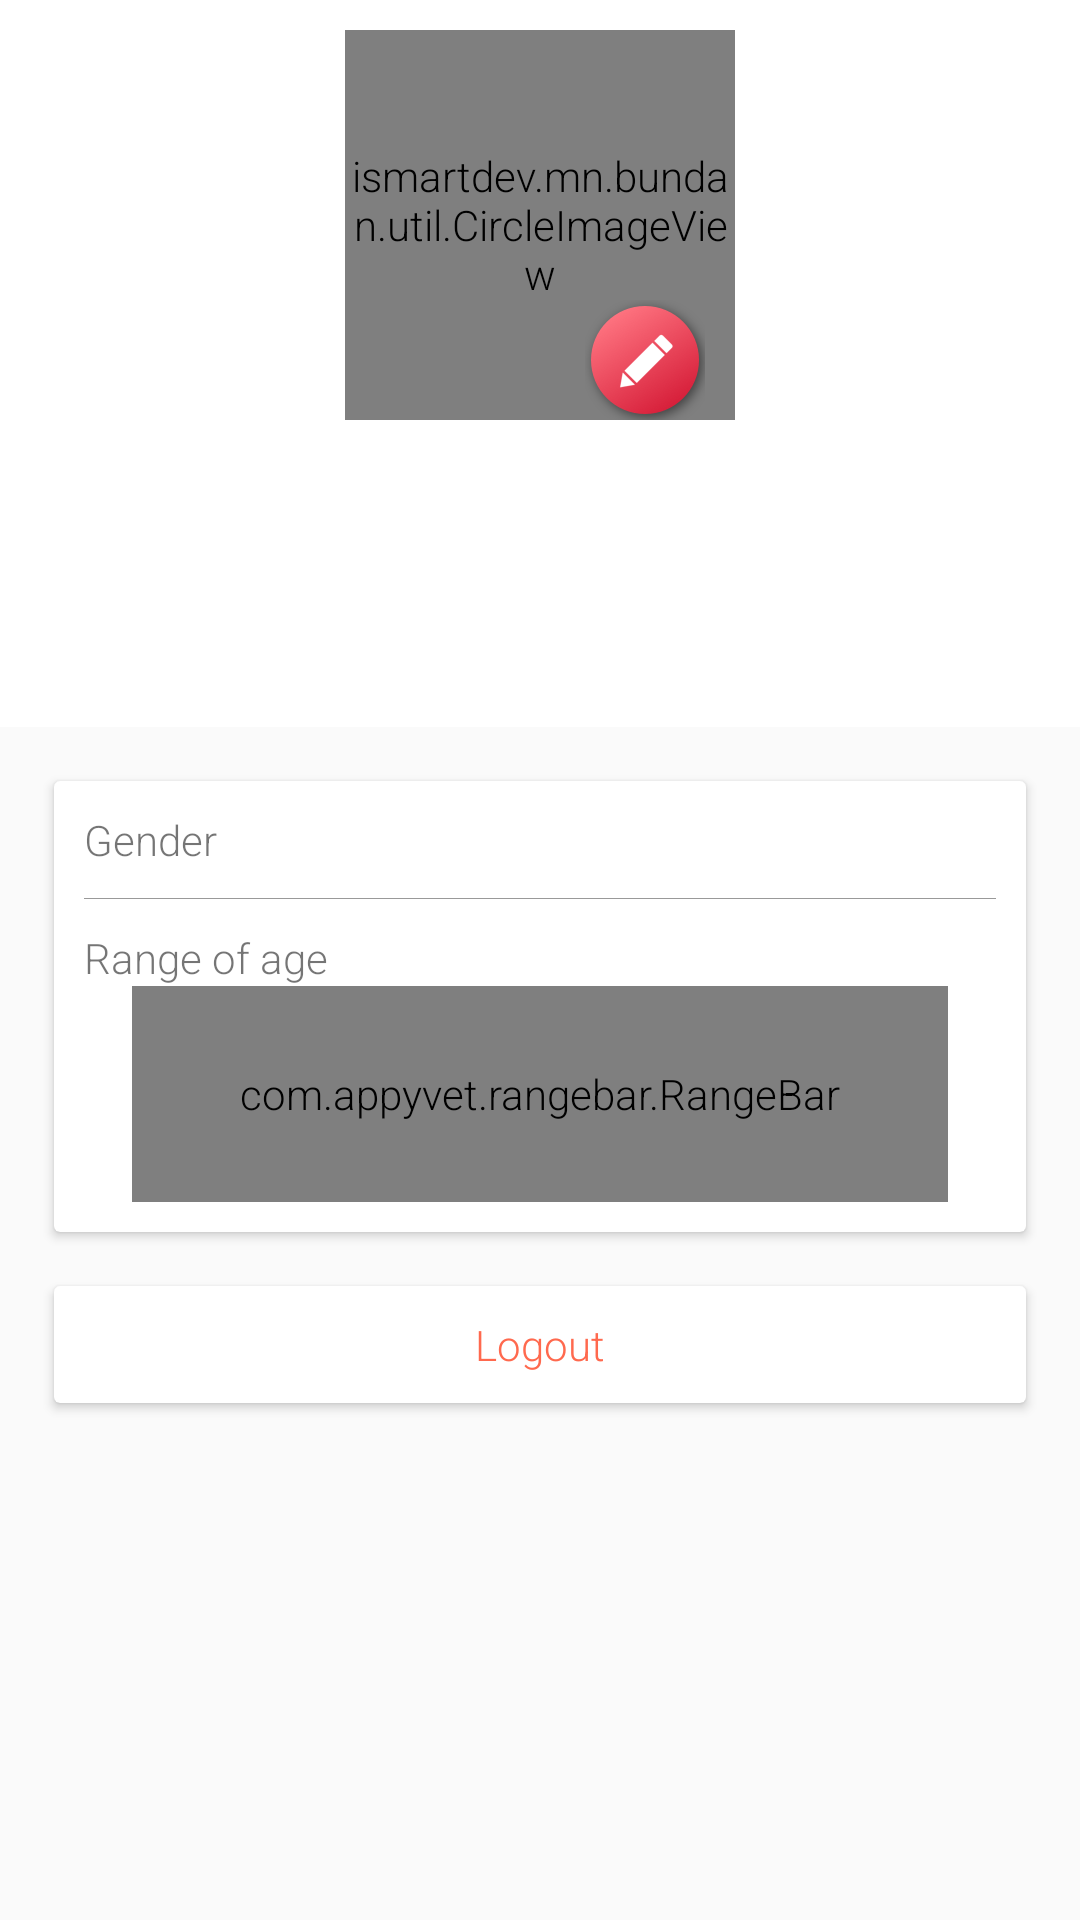

Screen size 1080×1920. Icon name, then its box in pixels as rect(x1, y1, x2, y2):
edit: rect(591, 306, 703, 418)
